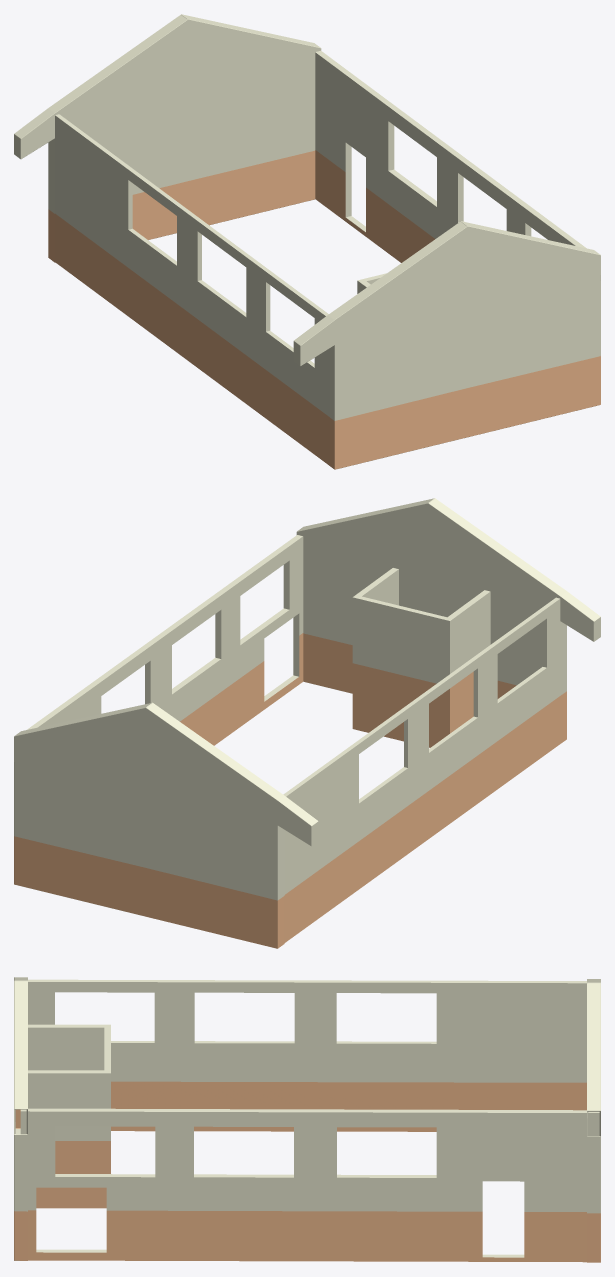
The model's file is paredLabCiencias2.glb.
3 renders of one model, top to bottom at view 1: azimuth 30°, elevation 25°; view 2: azimuth 150°, elevation 25°; view 3: azimuth 270°, elevation 25°, orthographic. The views are drawn at different scales.
Visible parts, largest first — view 1: paredes lab ciencias 2; view 2: paredes lab ciencias 2; view 3: paredes lab ciencias 2.
Boxes of the visible parts, box(x1,y1,x2,y2) form: paredes lab ciencias 2: box(14, 14, 600, 469); paredes lab ciencias 2: box(14, 498, 600, 948); paredes lab ciencias 2: box(14, 977, 600, 1262).
Bounding box in the file's own units: 164 × 109 × 271.
